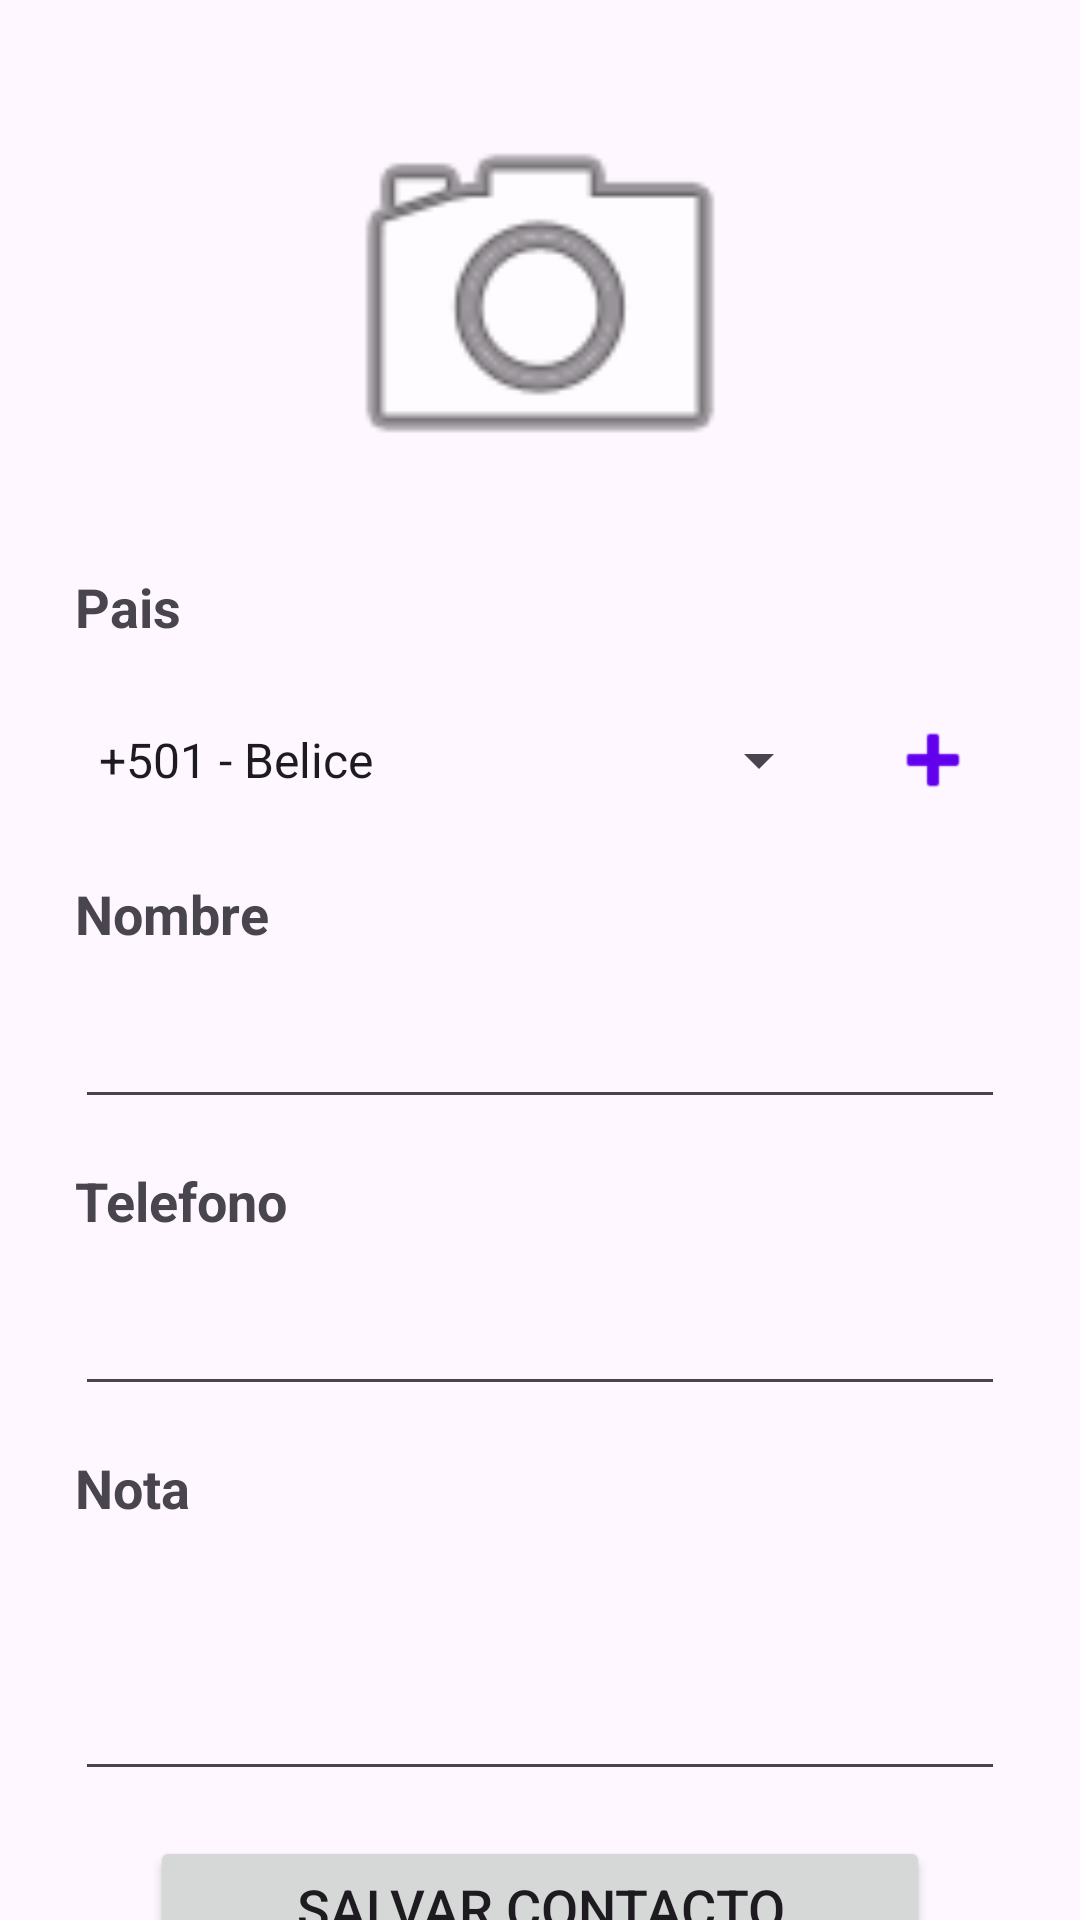

Icons on this 1080px x 1920px Android screen, each with the point to tap as (x,y):
add: (933,760)
Foto del contacto: (540,293)
